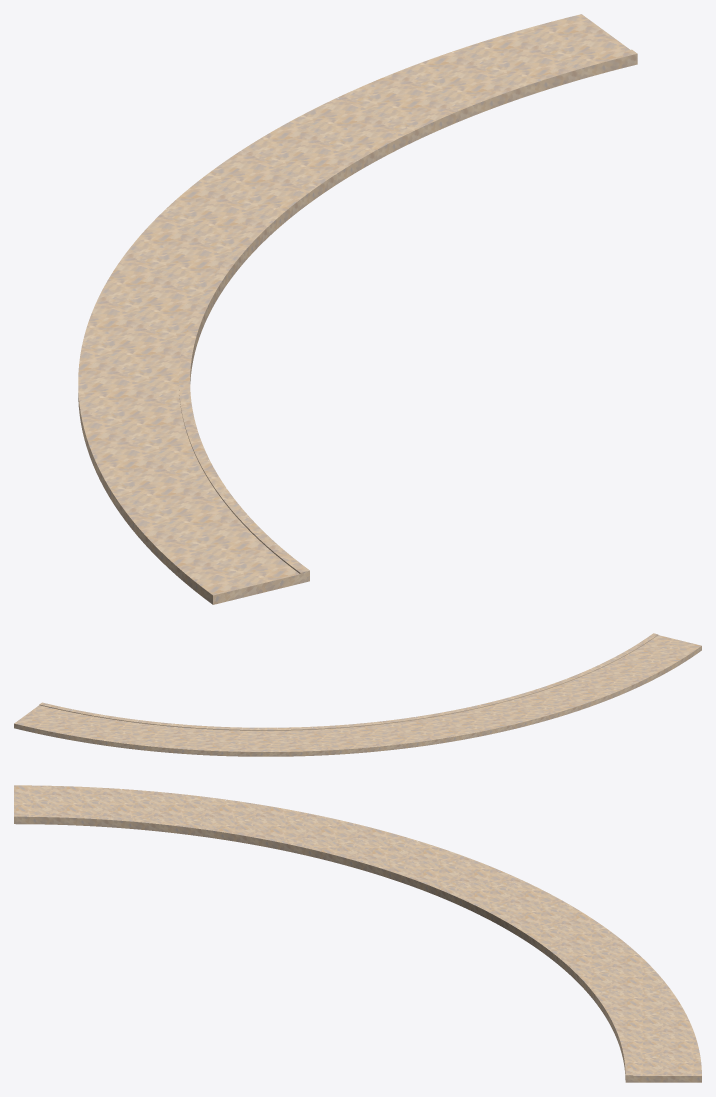
File: pavement-corner-yaw180.glb
The picture shows the model from 3 angles, top to bottom: view 1: azimuth 30°, elevation 25°; view 2: azimuth 150°, elevation 25°; view 3: azimuth 270°, elevation 25°; orthographic projection. The views are drawn at different scales.
Visible parts, largest first — view 1: pavement-corner; view 2: pavement-corner; view 3: pavement-corner.
Boxes of the visible parts, bbox=[...] form: pavement-corner: bbox=[78, 14, 637, 604]; pavement-corner: bbox=[14, 633, 701, 756]; pavement-corner: bbox=[14, 785, 701, 1082].
Size of the model in its own units: 13.5 by 0.16 by 13.5.
1 material, 1 textured.
